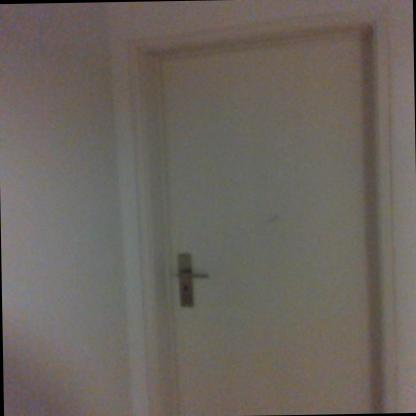closed: (114, 2, 413, 416)
